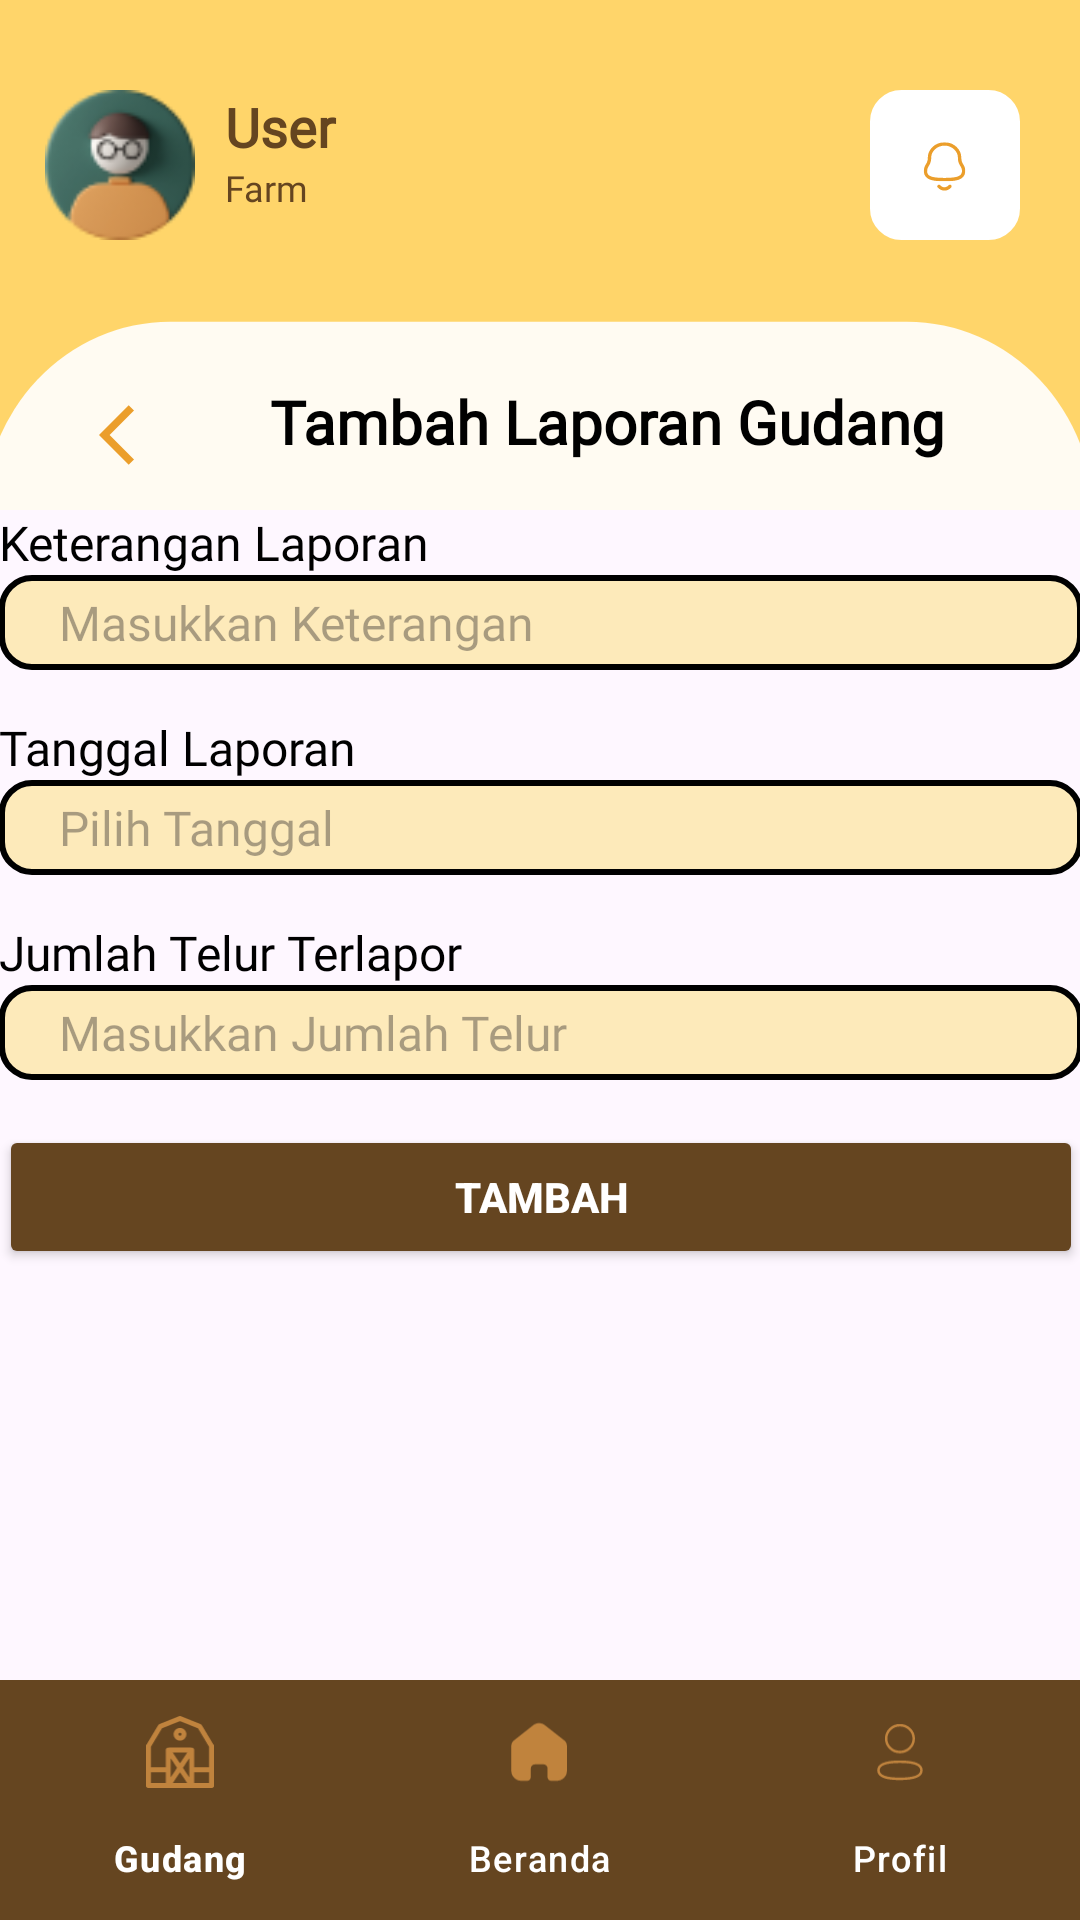

Locate icon controls on the screen. Image size 1080w x 1920h, boxes as box=[x1, y1, x2, y2].
bell: box=[870, 90, 1020, 240]
profile pic: box=[45, 90, 195, 240]
